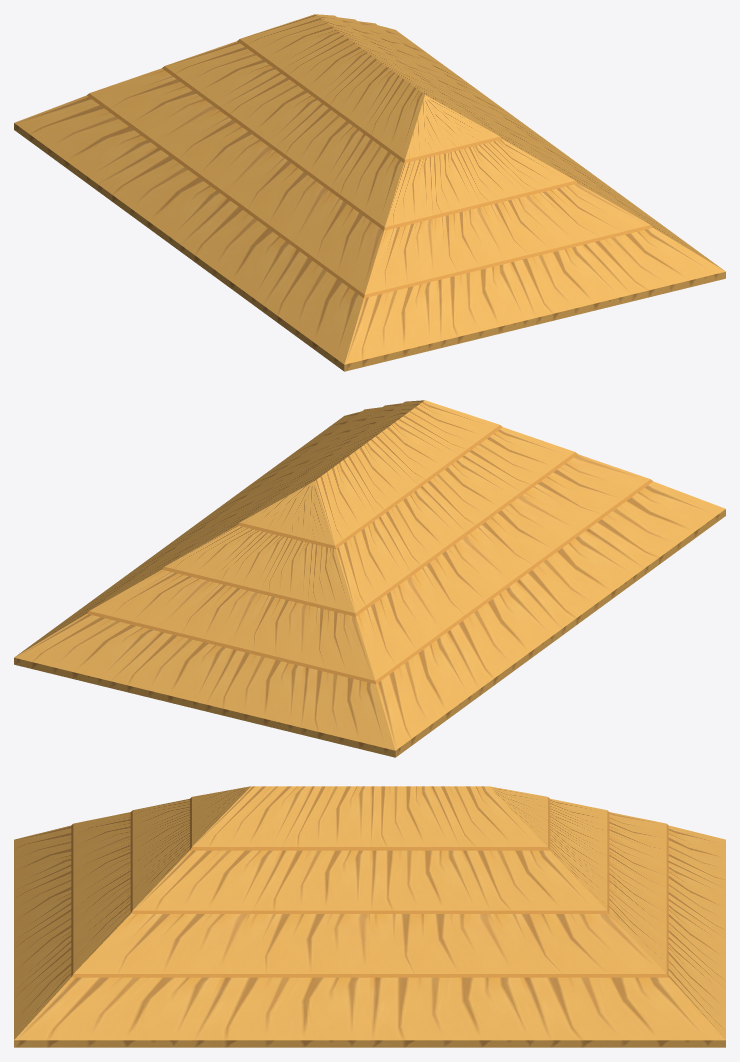
File: rc_wa_roof_thatchhip_8x12.glb
The picture shows the model from 3 angles, top to bottom: view 1: azimuth 30°, elevation 25°; view 2: azimuth 150°, elevation 25°; view 3: azimuth 270°, elevation 25°; orthographic projection. The views are drawn at different scales.
Parts seen in each view (by area): view 1: SM_RC_WA_ThatchHip_8x12; view 2: SM_RC_WA_ThatchHip_8x12; view 3: SM_RC_WA_ThatchHip_8x12.
Boxes of the visible parts, left/top/right/bottom form: SM_RC_WA_ThatchHip_8x12: left=14, top=14, right=725, bottom=371; SM_RC_WA_ThatchHip_8x12: left=14, top=400, right=725, bottom=757; SM_RC_WA_ThatchHip_8x12: left=14, top=786, right=725, bottom=1047.
Bounding box in the file's own units: 8 × 3 × 12.
Materials: 1 (1 with a texture image).
